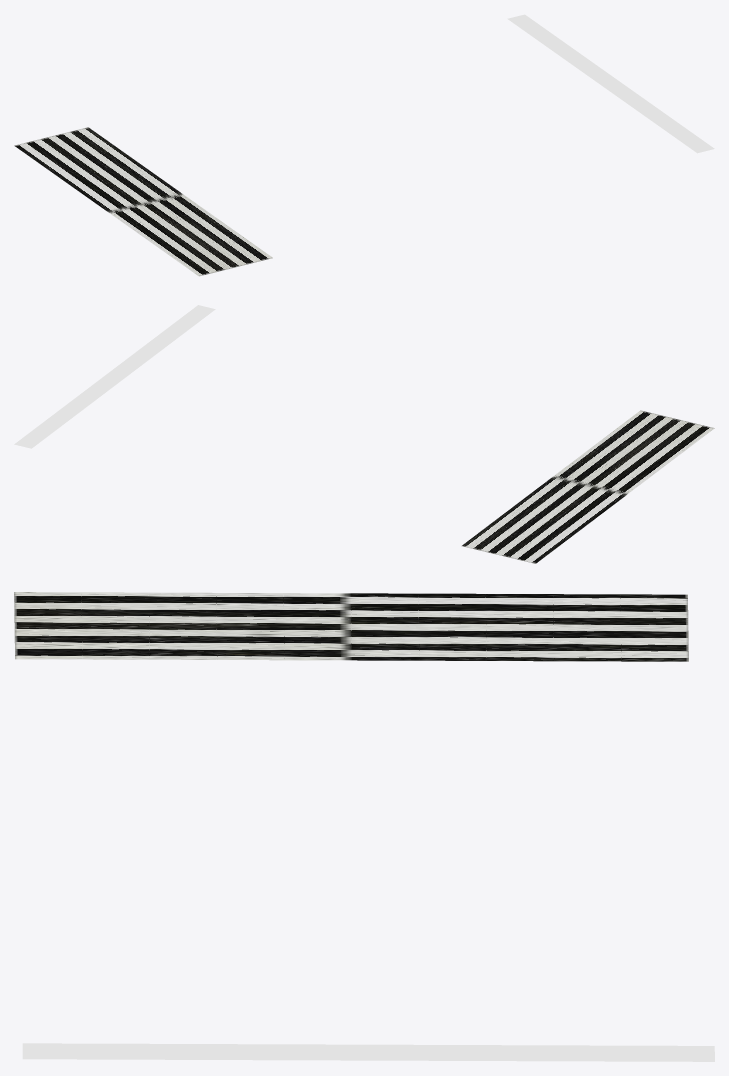
File: Race track.fbx
3 renders of one model, top to bottom at view 1: azimuth 30°, elevation 25°; view 2: azimuth 150°, elevation 25°; view 3: azimuth 270°, elevation 25°, orthographic. The views are drawn at different scales.
Parts seen in each view (by area): view 1: Plane, Plane__1_; view 2: Plane, Plane__1_; view 3: Plane, Plane__1_.
Part boxes in pixels (x1,y1,x2,y2): Plane: (14, 127, 272, 276); Plane__1_: (507, 14, 714, 153); Plane: (461, 410, 714, 563); Plane__1_: (14, 305, 215, 448); Plane: (14, 592, 688, 661); Plane__1_: (22, 1043, 714, 1061).
Size of what is drawn, in the model's own units: 2420 by 13.98 by 1532.
